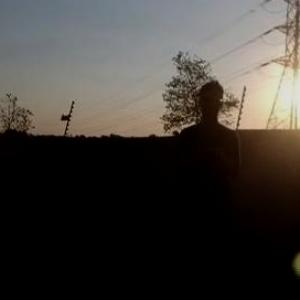follow: (169, 75, 245, 299)
